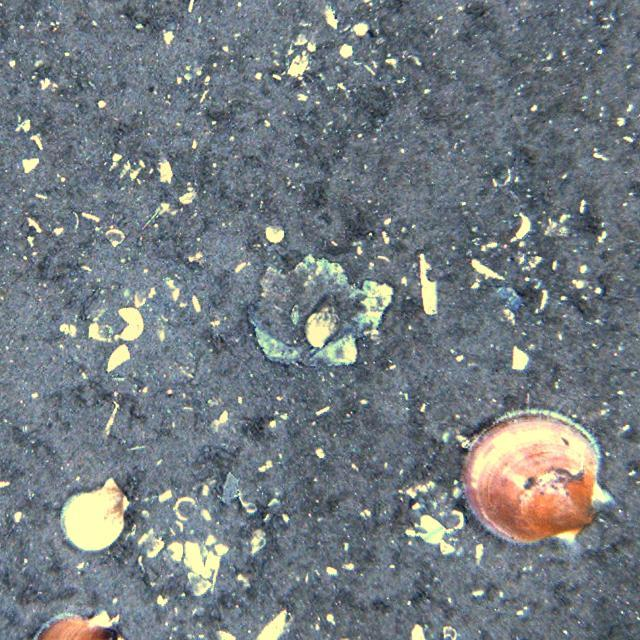whelk: (305, 304, 341, 348)
